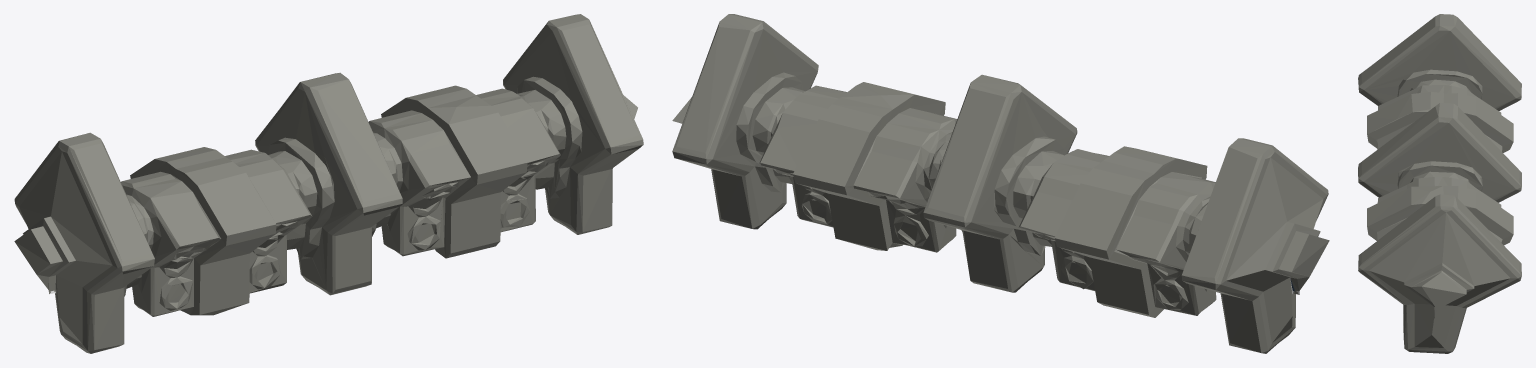
Rendered from hydraulic_press_01.fbx.
3 views of the same model, side by side, from view 1: azimuth 30°, elevation 25°; view 2: azimuth 150°, elevation 25°; view 3: azimuth 270°, elevation 25° (orthographic). The views are drawn at different scales.
Parts seen in each view (by area): view 1: hydraulic_press_01; view 2: hydraulic_press_01; view 3: hydraulic_press_01.
Boxes of the visible parts, x1,y1,x2,y2 form: hydraulic_press_01: [14, 14, 643, 353]; hydraulic_press_01: [672, 14, 1329, 353]; hydraulic_press_01: [1358, 14, 1521, 353].
Bounding box in the file's own units: 430 × 136 × 136.
